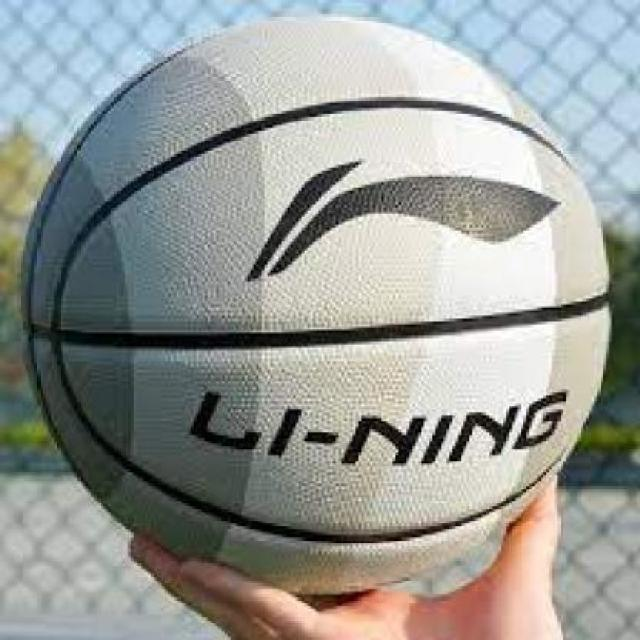basketball: (20, 16, 612, 592)
